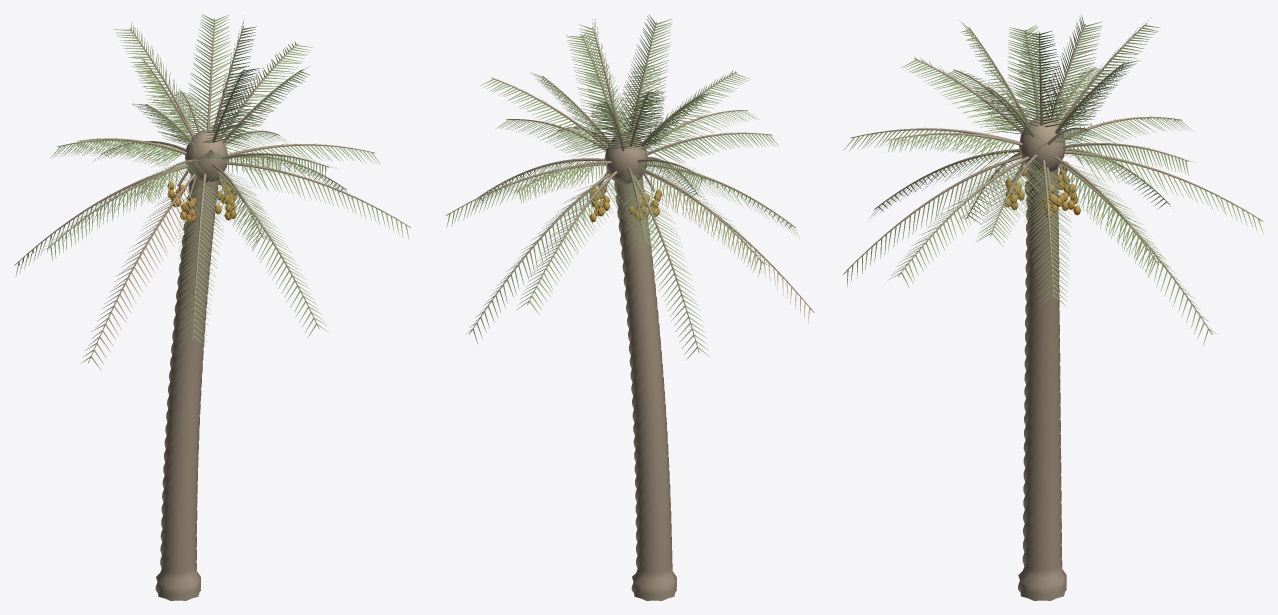
File: SM_DatePalm_A.fbx
3 views of the same model, side by side, from view 1: azimuth 30°, elevation 25°; view 2: azimuth 150°, elevation 25°; view 3: azimuth 270°, elevation 25° (orthographic). The views are drawn at different scales.
Parts seen in each view (by area): view 1: SM_DatePalm_A; view 2: SM_DatePalm_A; view 3: SM_DatePalm_A.
Part boxes in pixels (x1,y1,x2,y2): SM_DatePalm_A: (14,14,410,600); SM_DatePalm_A: (445,14,814,600); SM_DatePalm_A: (843,14,1263,600).
Size of the model in its own units: 679 by 1183 by 755.
